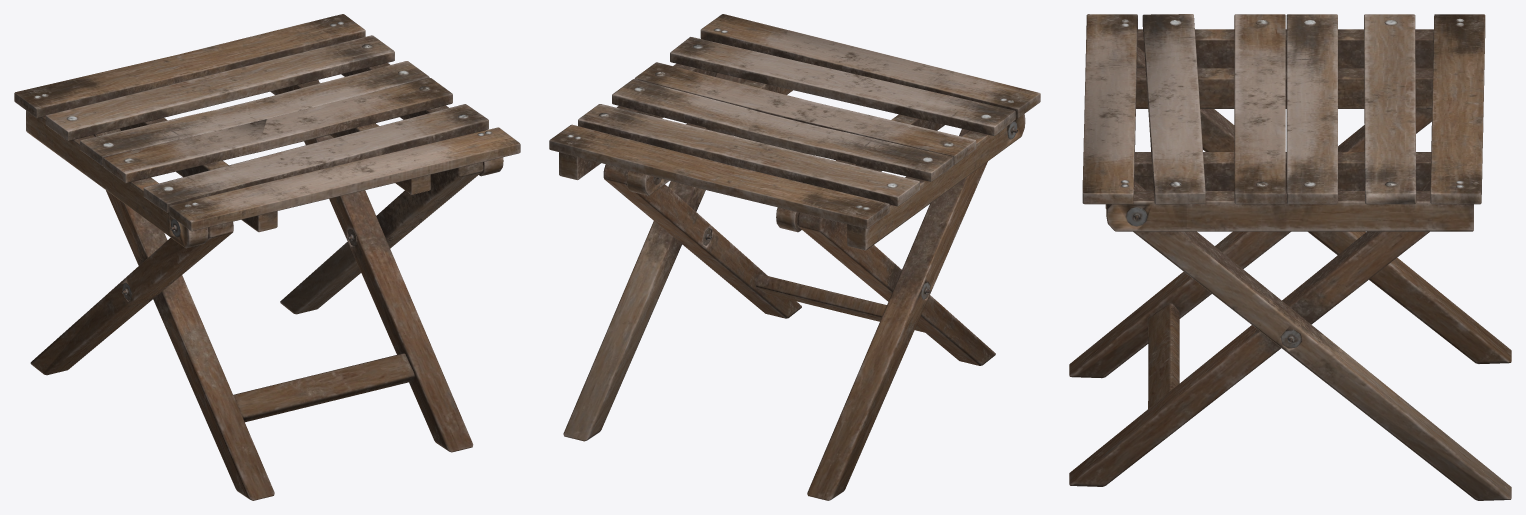
Rendered from folding_wooden_stool.glb.
3 renders of one model, left to right at view 1: azimuth 30°, elevation 25°; view 2: azimuth 150°, elevation 25°; view 3: azimuth 270°, elevation 25°, orthographic. The views are drawn at different scales.
Visible parts, largest first — view 1: folding_wooden_stool; view 2: folding_wooden_stool; view 3: folding_wooden_stool.
Boxes of the visible parts, x1=… form: folding_wooden_stool: x1=14, y1=14, x2=520, y2=500; folding_wooden_stool: x1=549, y1=14, x2=1040, y2=500; folding_wooden_stool: x1=1069, y1=14, x2=1511, y2=500.
Size of the model in its own units: 0.5278 by 0.442 by 0.5471.
1 material, 1 textured.
